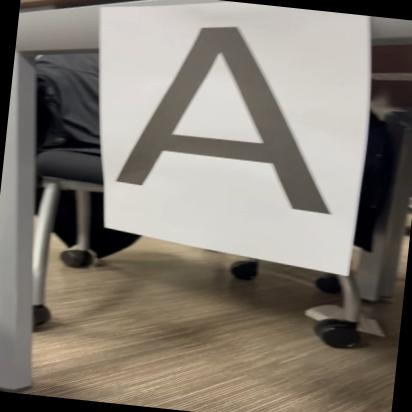seat: (102, 10, 364, 220)
